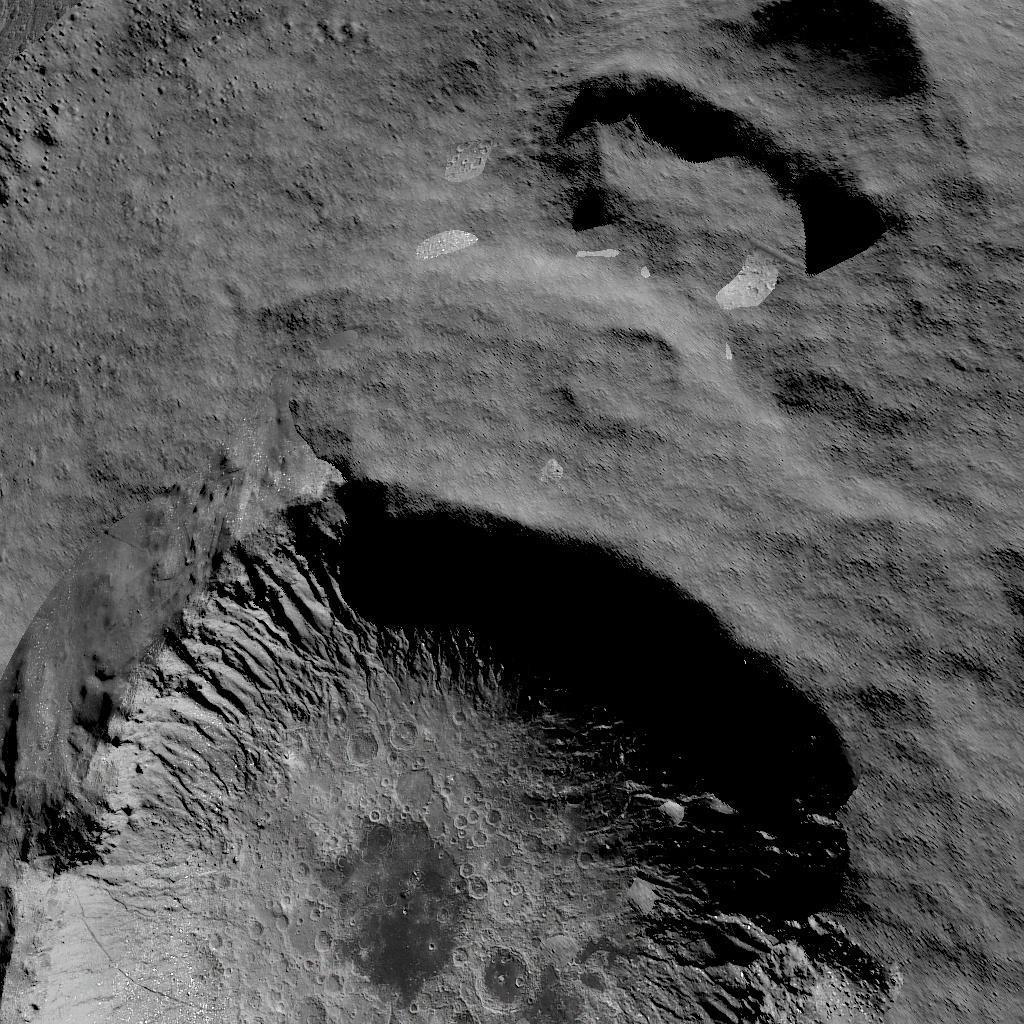Crater: (0, 458, 866, 1024), (535, 0, 927, 273), (563, 301, 698, 441)
Plan surface: (7, 0, 514, 442)
